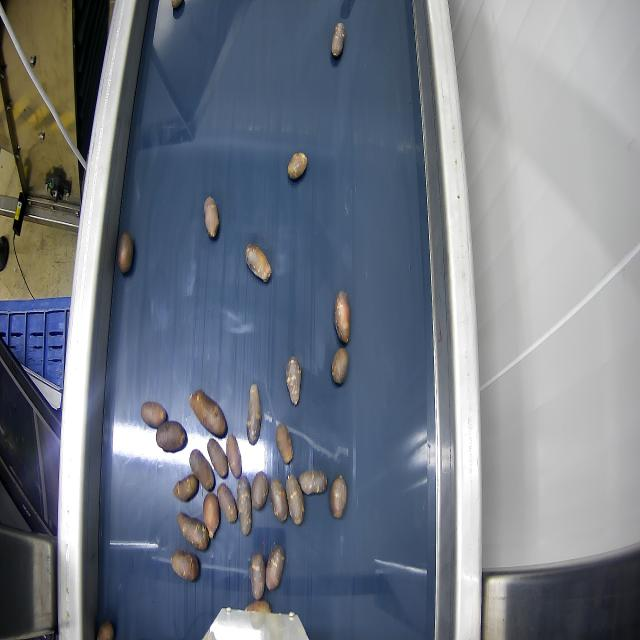Baby Potato: (189, 388, 227, 438), (178, 511, 208, 550), (245, 242, 272, 282), (189, 449, 214, 491), (156, 420, 186, 452), (170, 550, 200, 582), (334, 289, 351, 345), (265, 544, 285, 591), (286, 474, 304, 524), (246, 383, 261, 443), (236, 478, 252, 534), (217, 481, 238, 523), (207, 437, 228, 479), (270, 474, 288, 522), (329, 473, 347, 519), (202, 492, 220, 538), (250, 550, 266, 601), (285, 356, 301, 406), (298, 469, 328, 495), (116, 230, 134, 273), (140, 400, 167, 428), (173, 473, 199, 501), (331, 346, 349, 386), (226, 433, 242, 477), (203, 195, 219, 238), (276, 422, 292, 465), (252, 471, 268, 509), (287, 151, 307, 180), (331, 20, 345, 58), (95, 619, 114, 640), (244, 598, 272, 612)
